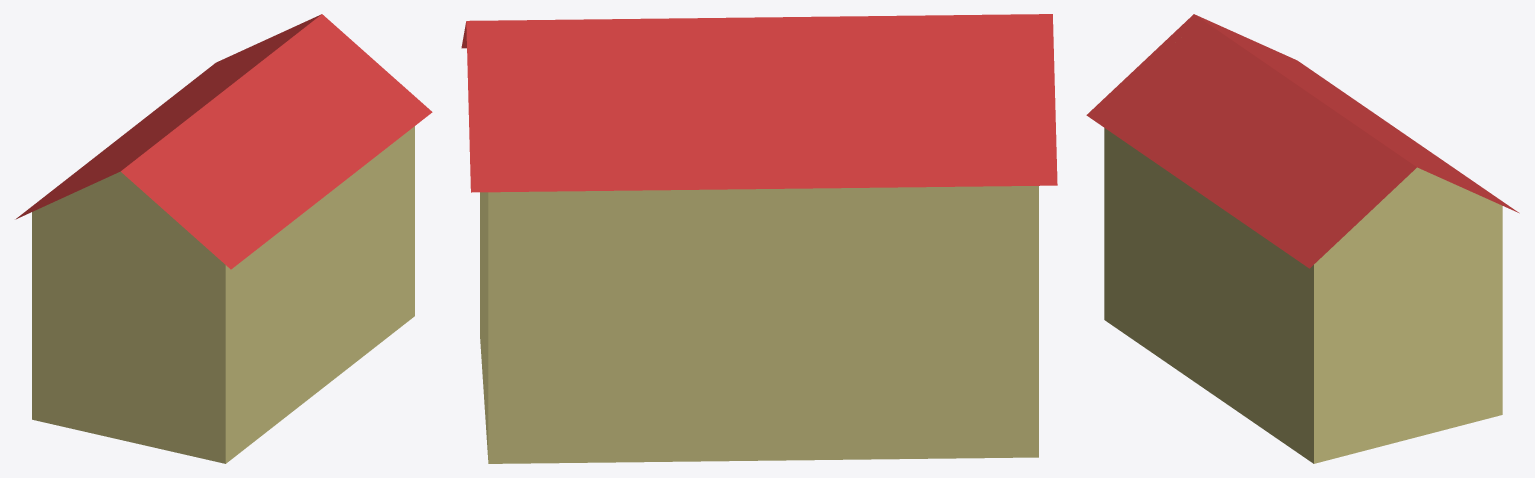
The picture shows the model from 3 angles, left to right: view 1: azimuth 30°, elevation 25°; view 2: azimuth 150°, elevation 25°; view 3: azimuth 270°, elevation 25°; orthographic projection. The views are drawn at different scales.
Bounding box in the file's own units: 18.86 × 16.62 × 11.66.
